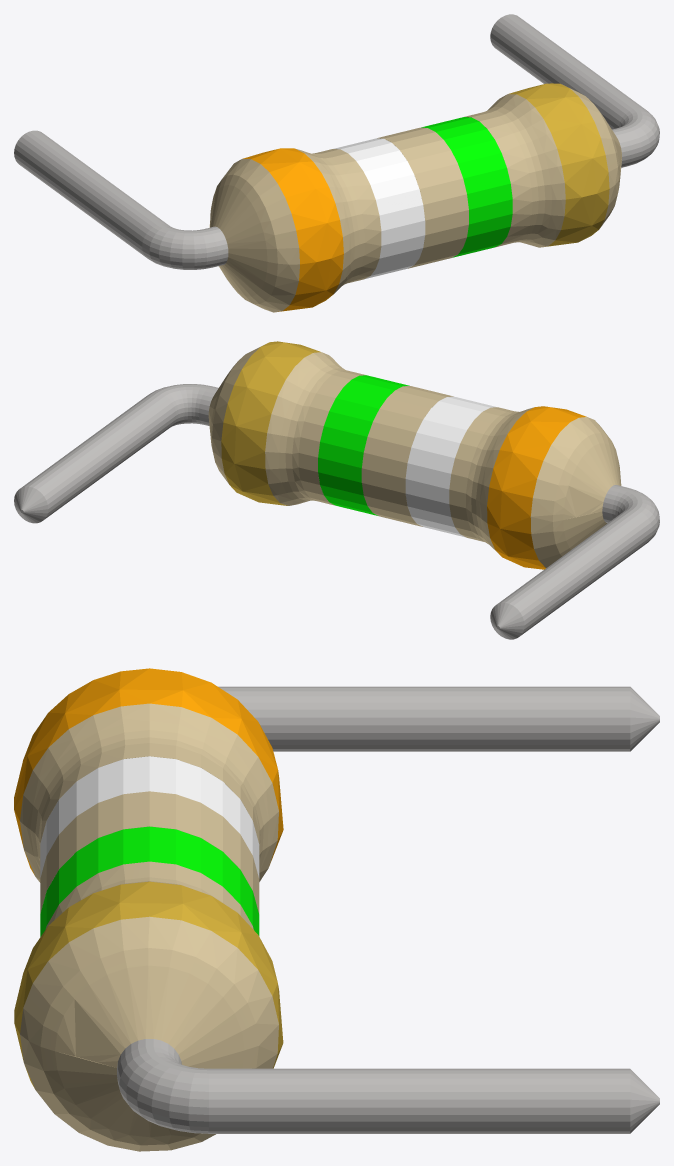
Rendered from Yageo CFR-25 Resistor Axial P7.62mm 3,9 MOhm.obj.
3 views of the same model, one above another, from view 1: azimuth 30°, elevation 25°; view 2: azimuth 150°, elevation 25°; view 3: azimuth 270°, elevation 25° (orthographic). The views are drawn at different scales.
Parts seen in each view (by area): view 1: Yageo_CFR-25_Resistor_Axial_P7.62mm_3,9_MOhm; view 2: Yageo_CFR-25_Resistor_Axial_P7.62mm_3,9_MOhm; view 3: Yageo_CFR-25_Resistor_Axial_P7.62mm_3,9_MOhm.
Boxes of the visible parts, x1,y1,x2,y2 form: Yageo_CFR-25_Resistor_Axial_P7.62mm_3,9_MOhm: [14, 14, 659, 312]; Yageo_CFR-25_Resistor_Axial_P7.62mm_3,9_MOhm: [14, 341, 659, 639]; Yageo_CFR-25_Resistor_Axial_P7.62mm_3,9_MOhm: [14, 668, 659, 1151].
Bounding box in the file's own units: 0.0186 × 0.00513 × 0.0124.
